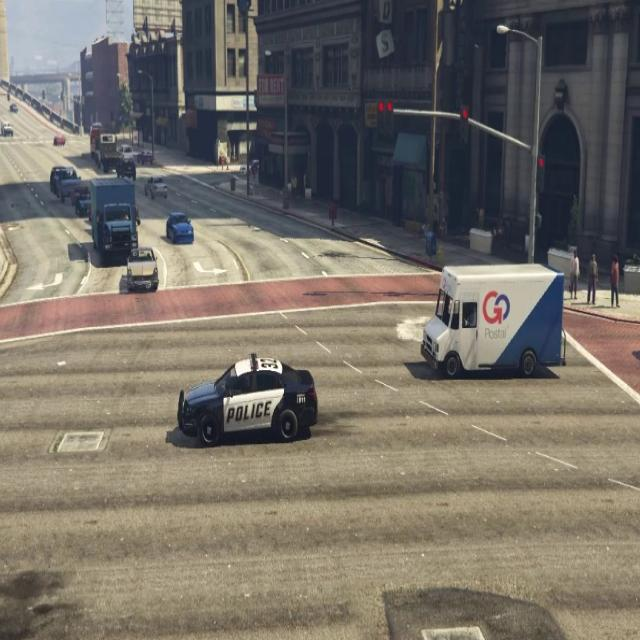Red-Signal: (372, 90, 400, 148), (458, 100, 472, 149), (534, 149, 546, 199)
